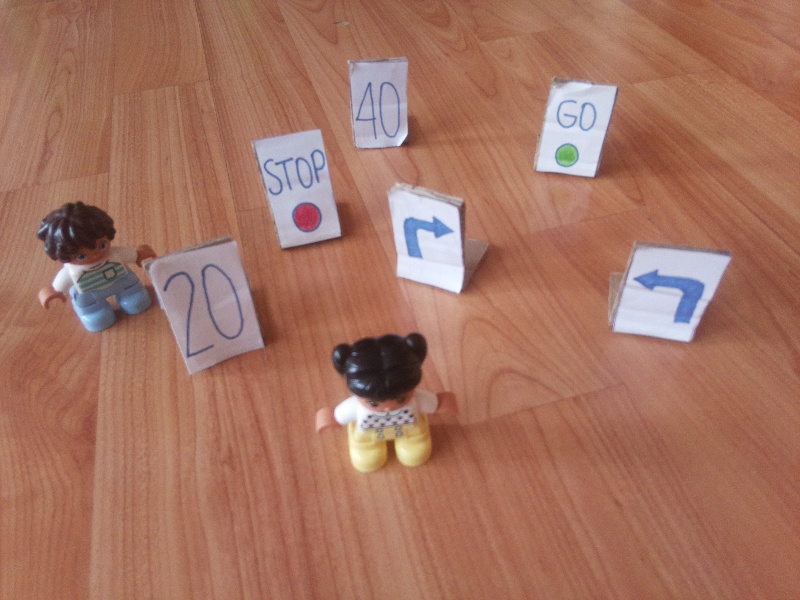20: (163, 265, 249, 355)
40: (354, 74, 408, 140)
go: (550, 93, 599, 170)
person: (308, 327, 460, 472), (32, 203, 155, 334)
stop: (266, 146, 331, 234)
turn left: (633, 264, 706, 331)
turn right: (403, 208, 455, 269)
